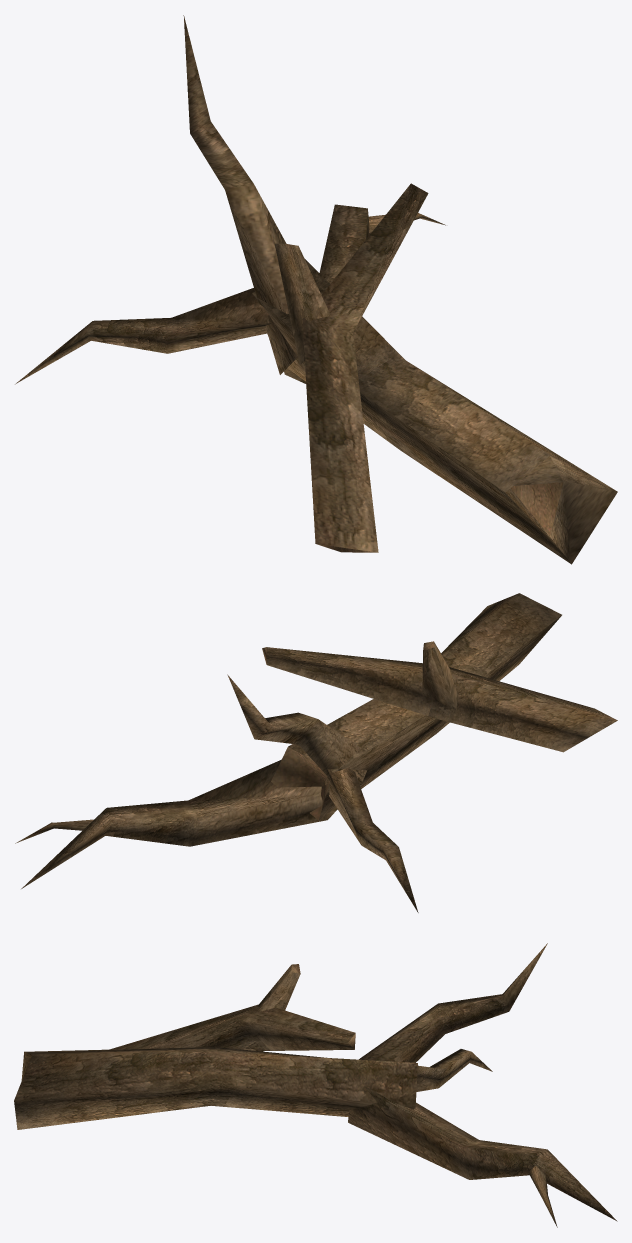
File: Gobi_Tree01.FBX
3 renders of one model, top to bottom at view 1: azimuth 30°, elevation 25°; view 2: azimuth 150°, elevation 25°; view 3: azimuth 270°, elevation 25°, orthographic. The views are drawn at different scales.
Visible parts, largest first — view 1: Gobi_Tree01; view 2: Gobi_Tree01; view 3: Gobi_Tree01.
Boxes of the visible parts, x1,y1,x2,y2 form: Gobi_Tree01: [15, 15, 617, 564]; Gobi_Tree01: [15, 593, 617, 912]; Gobi_Tree01: [14, 943, 617, 1227].
Bounding box in the file's own units: 661 × 392 × 1042.
